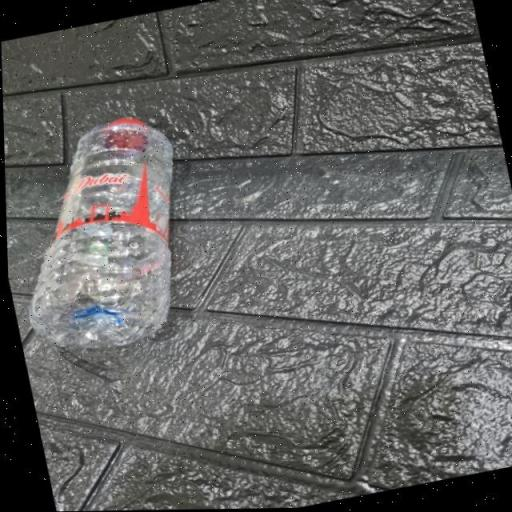plastic: (2, 102, 218, 358)
